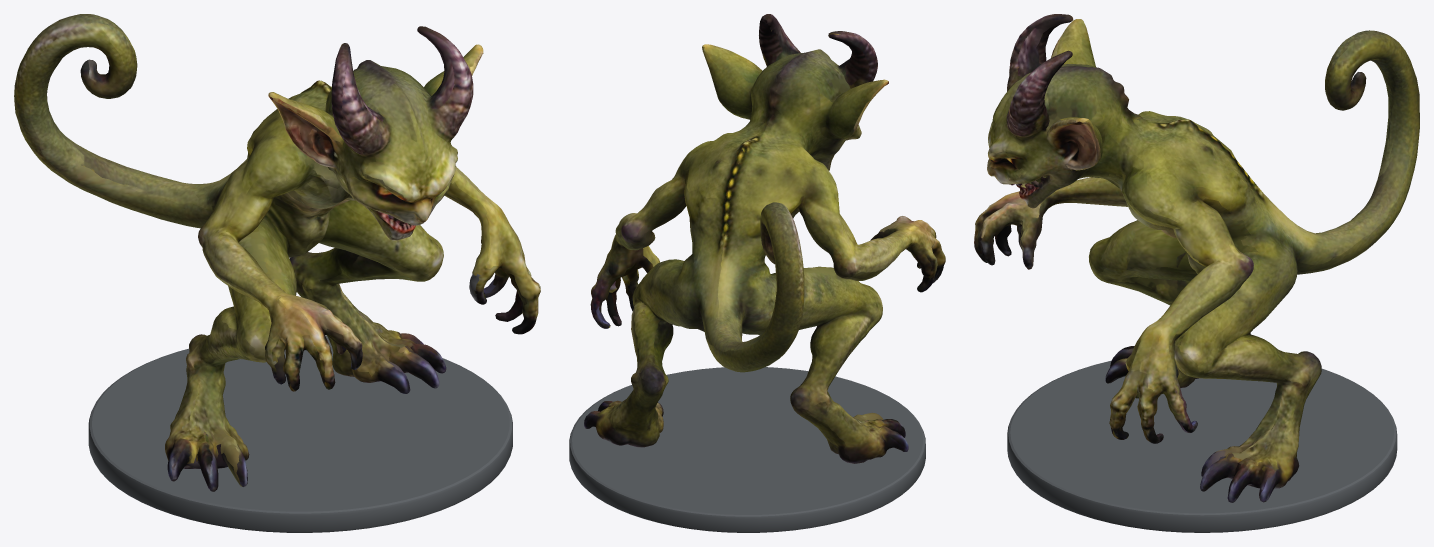
Rendered from quasit.glb.
The picture shows the model from 3 angles, left to right: view 1: azimuth 30°, elevation 25°; view 2: azimuth 150°, elevation 25°; view 3: azimuth 270°, elevation 25°; orthographic projection. The views are drawn at different scales.
Parts seen in each view (by area): view 1: quasit_body, quasit_round_base; view 2: quasit_body, quasit_round_base; view 3: quasit_body, quasit_round_base.
Part boxes in pixels (box(x1,y1,x2,y2)): quasit_body: box(14, 14, 540, 491); quasit_round_base: box(88, 335, 512, 532); quasit_body: box(584, 14, 945, 463); quasit_round_base: box(569, 367, 925, 532); quasit_body: box(974, 14, 1419, 502); quasit_round_base: box(1007, 360, 1397, 532).
Bounding box in the file's own units: 1.04 × 1.2 × 1.14.
2 materials, 1 textured.
